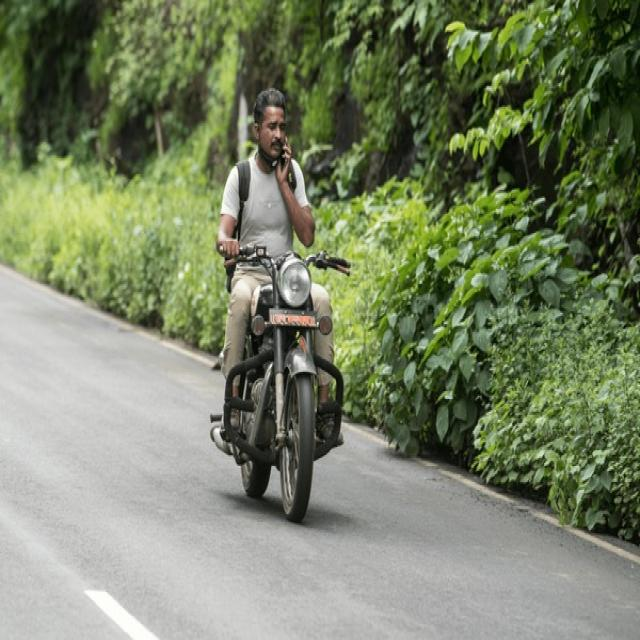motorcycle: (210, 88, 349, 521)
